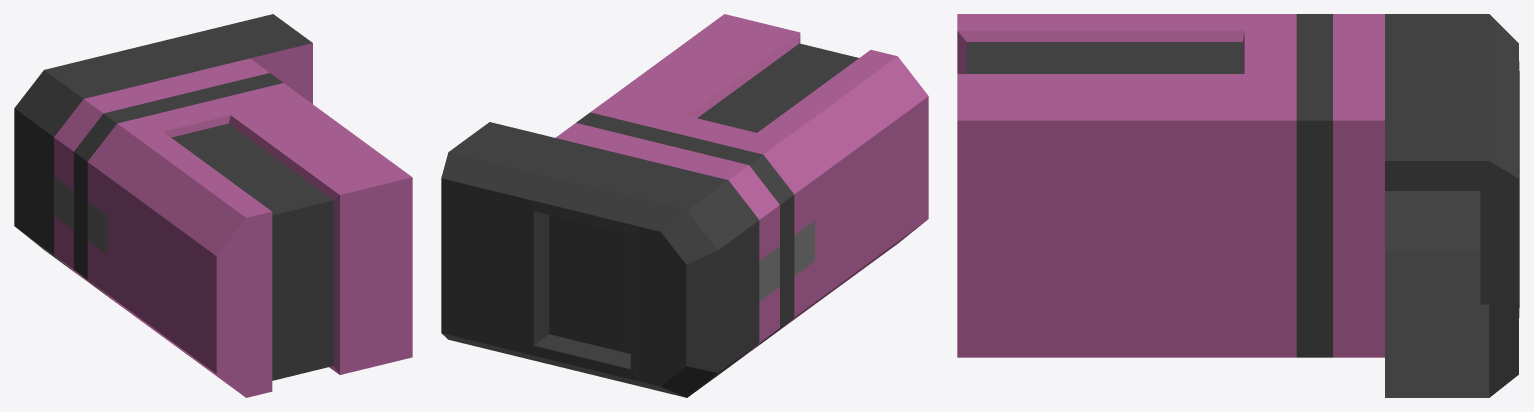
Rendered from SideShip.fbx.
3 renders of one model, left to right at view 1: azimuth 30°, elevation 25°; view 2: azimuth 150°, elevation 25°; view 3: azimuth 270°, elevation 25°, orthographic. The views are drawn at different scales.
Visible parts, largest first — view 1: Spaceship_FernandoTheFlamingo.008; view 2: Spaceship_FernandoTheFlamingo.008; view 3: Spaceship_FernandoTheFlamingo.008.
Boxes of the visible parts, left/top/right/bottom form: Spaceship_FernandoTheFlamingo.008: left=14, top=14, right=412, bottom=397; Spaceship_FernandoTheFlamingo.008: left=441, top=14, right=928, bottom=397; Spaceship_FernandoTheFlamingo.008: left=957, top=14, right=1519, bottom=397.
Bounding box in the file's own units: 148 × 98.27 × 211.
1 material, 1 textured.
